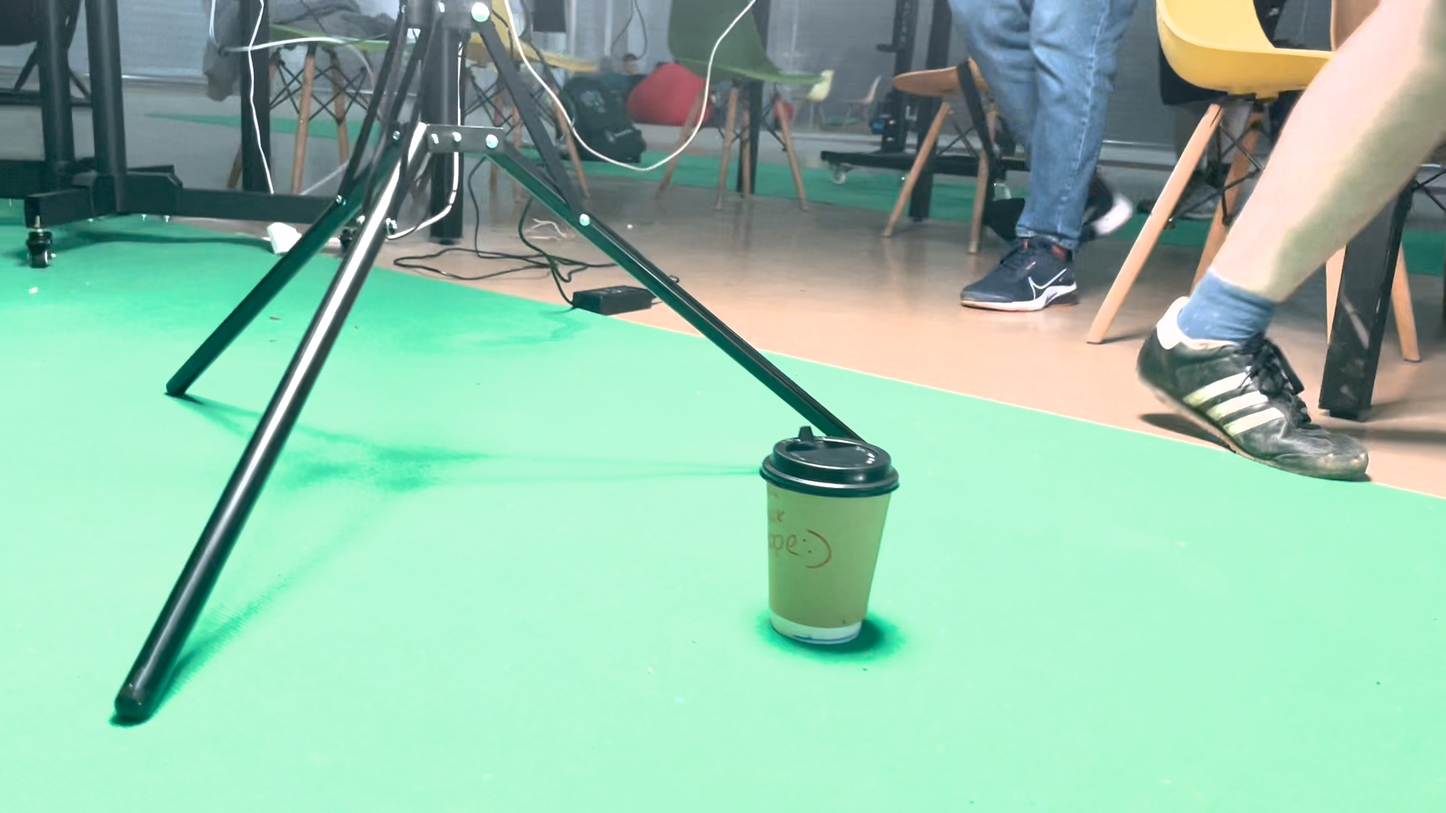cup: (747, 413, 840, 529)
